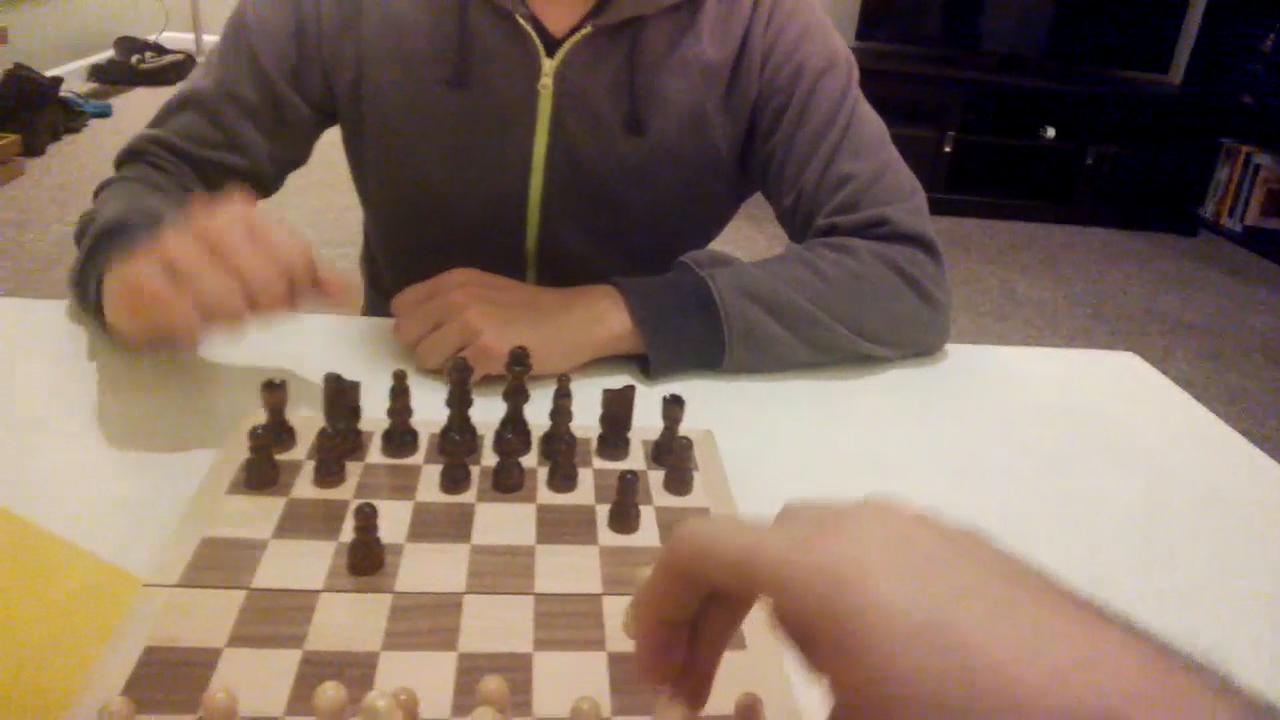hand: (613, 510, 1056, 720), (93, 182, 363, 348), (379, 257, 608, 381)
